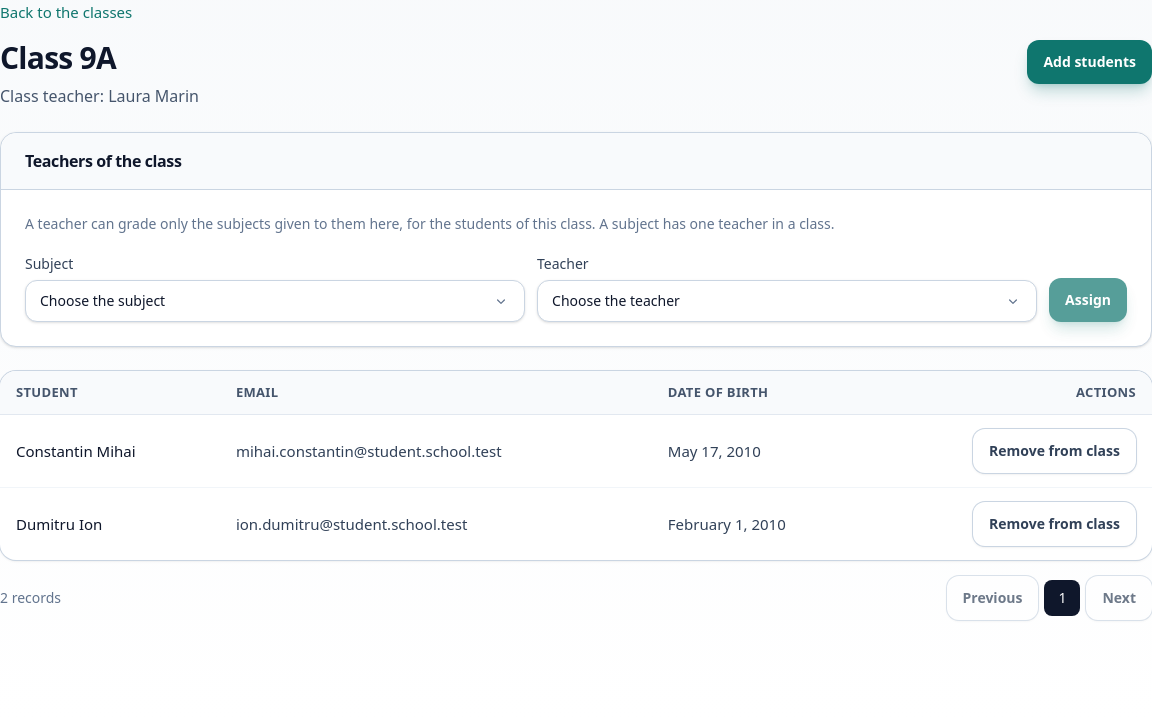
Scenario: AdminClassStudentsPage › adds a student to the class from the add window
Expected: the heading "Class 9A" is shown, [0,36,116,78]
Click the button "Add students". click: [1090, 62]
box: [1027,40,1151,84]
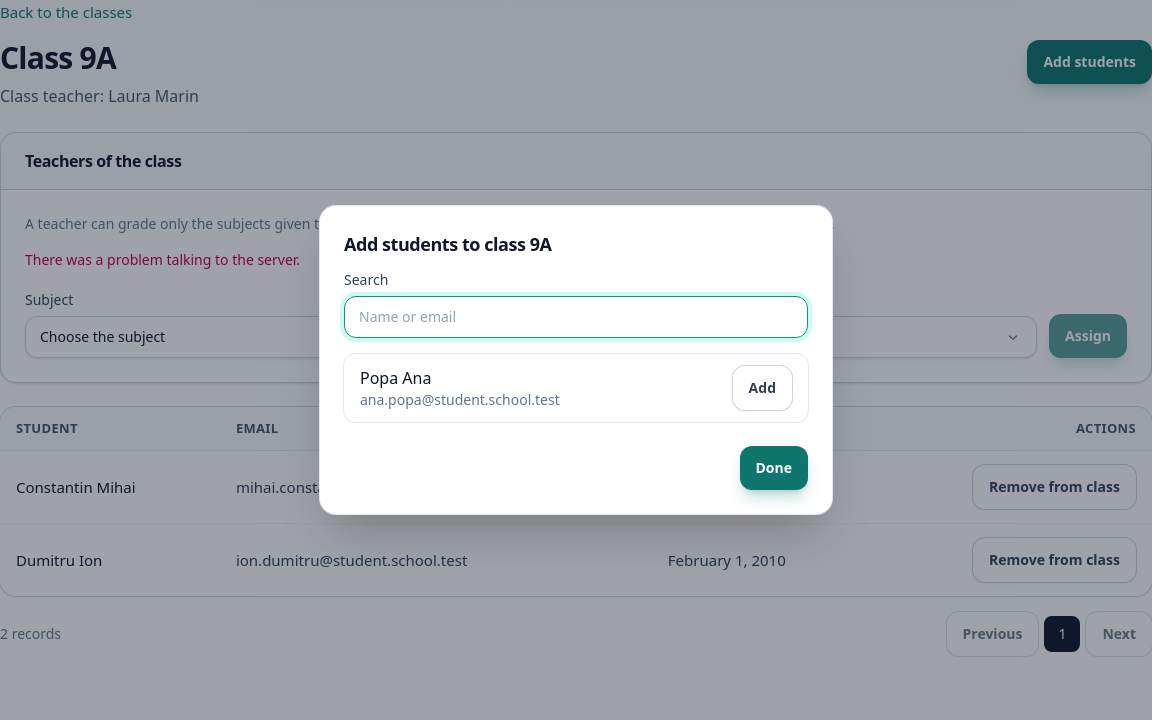
Expected: the text "Popa Ana" is shown, [360,367,432,389]
Click the button "Add". click: [762, 388]
box: [733,366,792,410]
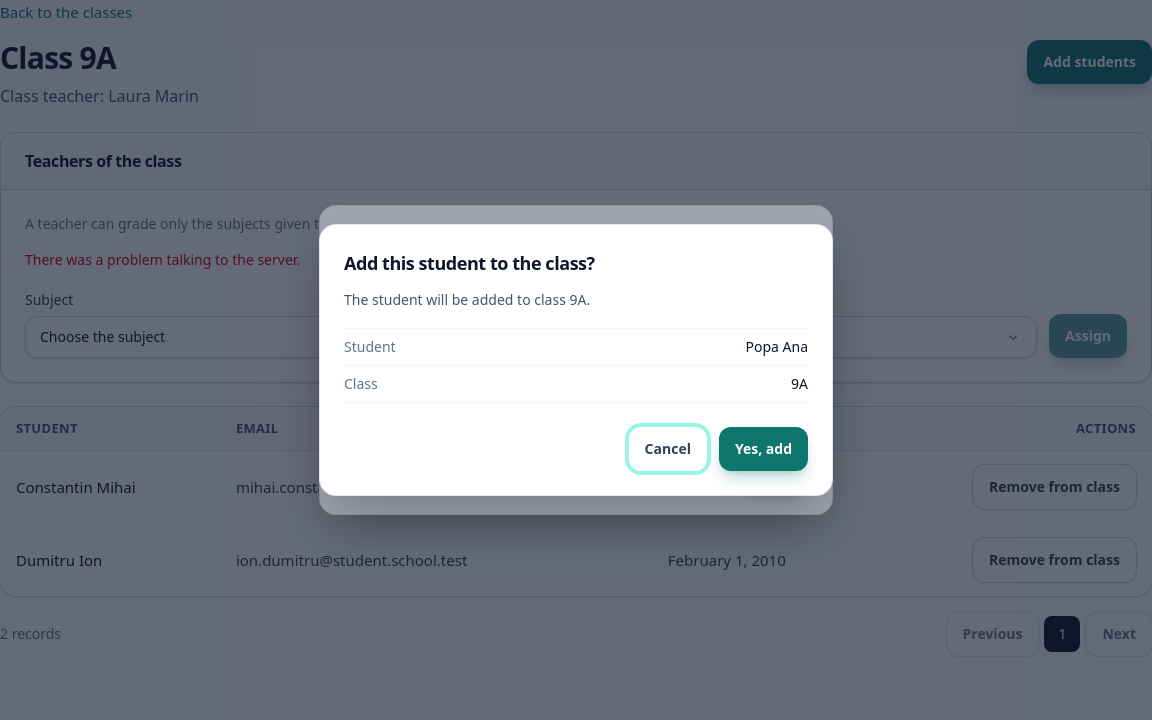
Click the button "Yes, add". click: [763, 449]
box: [719,427,808,471]
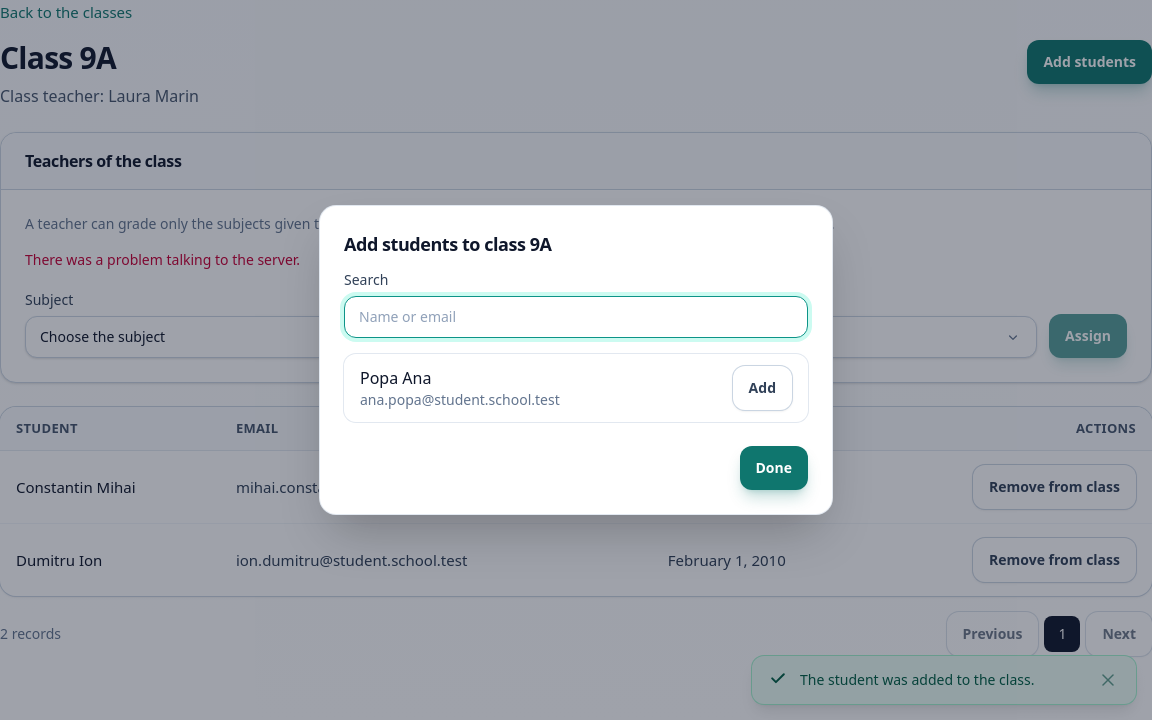
Expected: the text "The student was added to the class." is shown, [800,670,1034,689]
